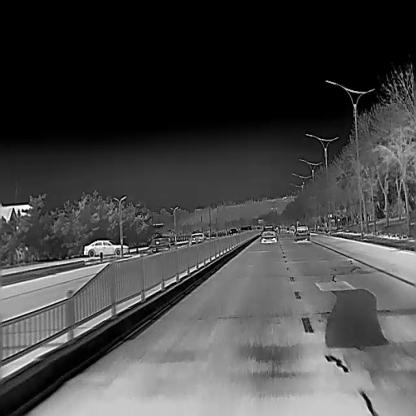car: (83, 238, 128, 257), (145, 234, 178, 255), (292, 222, 310, 241), (260, 223, 278, 242), (188, 231, 206, 245)
